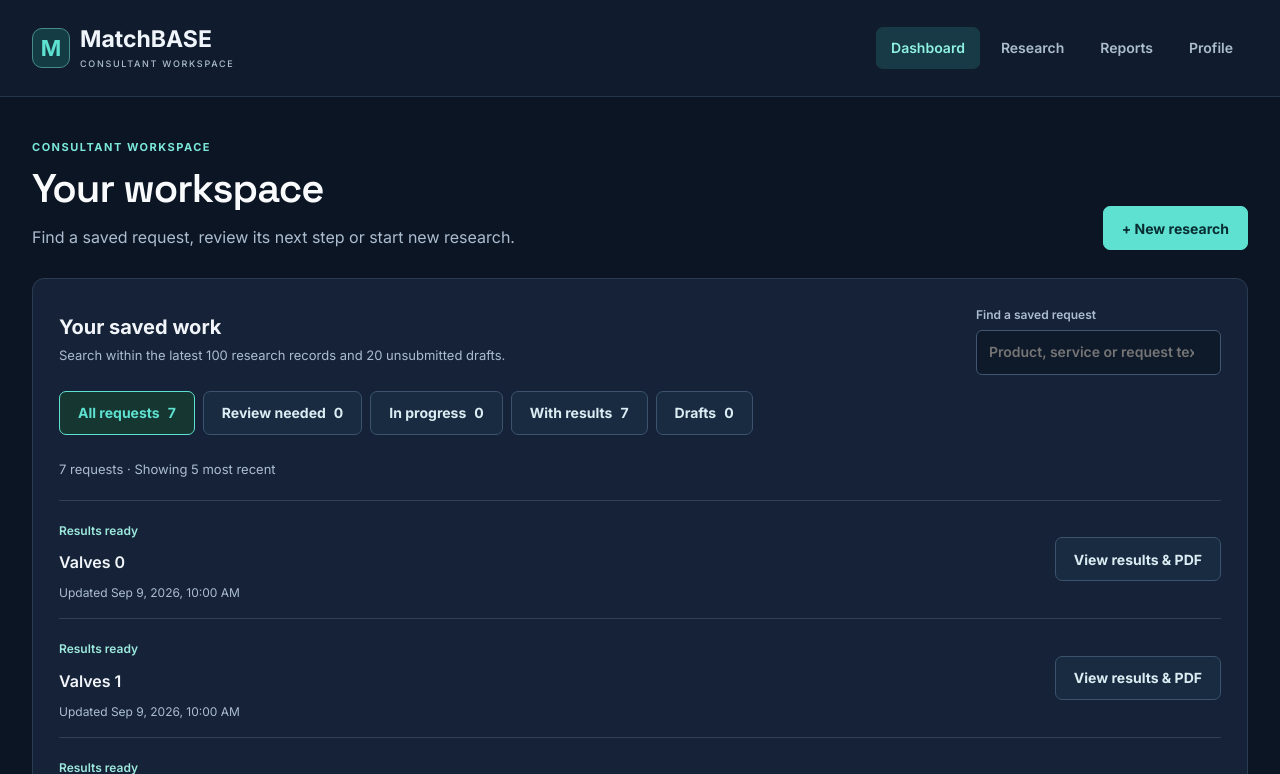
Test: MB-UX-DEV-004 L01 Consultant workspace scenarios › finds a request outside the five dashboard rows and avoids claiming a failed load is empty
This screenshot has width=1280, height=774.
Expected: the heading "Valves 0" is shown, [59,552,125,572]
Expected: the text "Special pumps" is not shown
In the search field: (1098,353) [976,330,1221,375], type "Special"
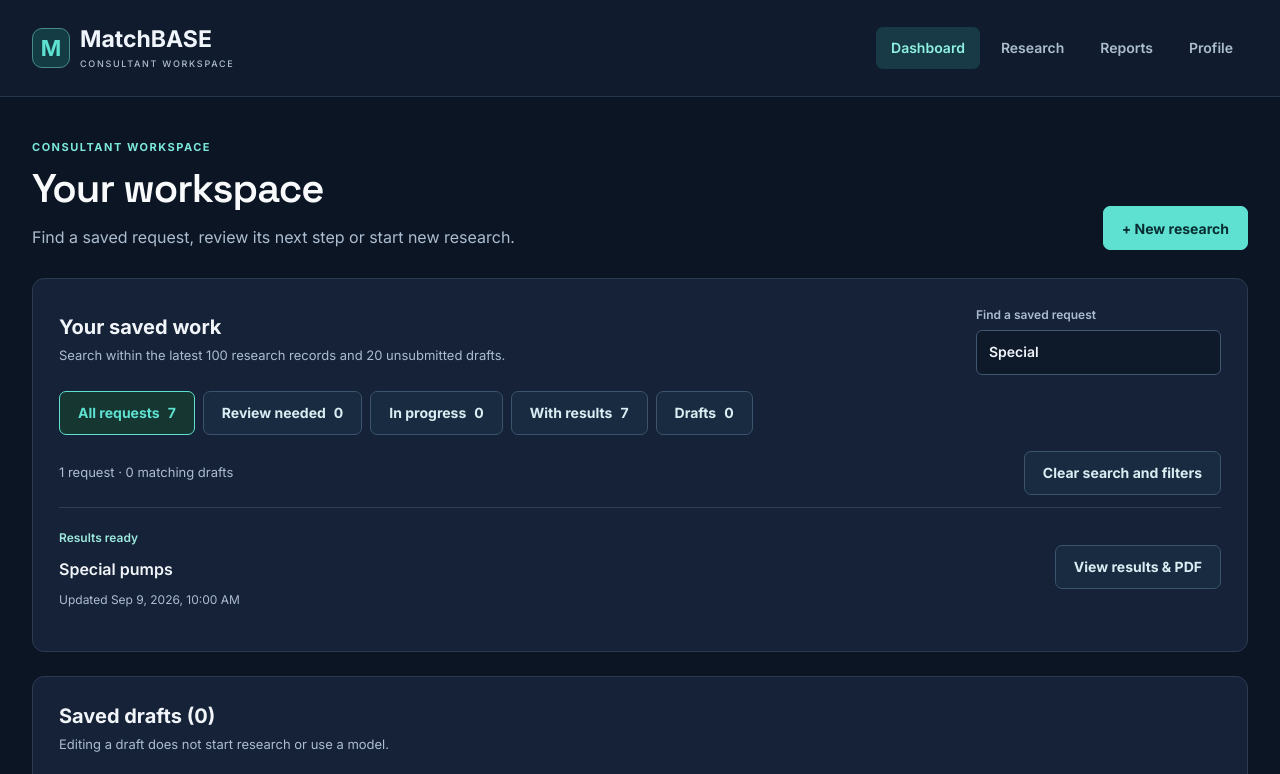
Expected: the heading "Special pumps" is shown, [59,559,173,579]
